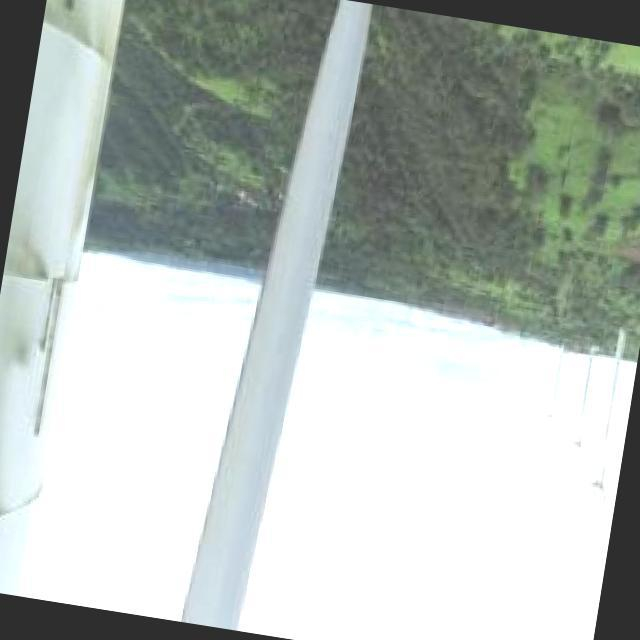Dirt: (0, 0, 125, 601)
